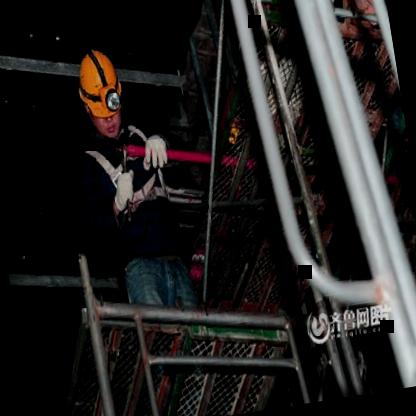helmet: (71, 38, 131, 148)
